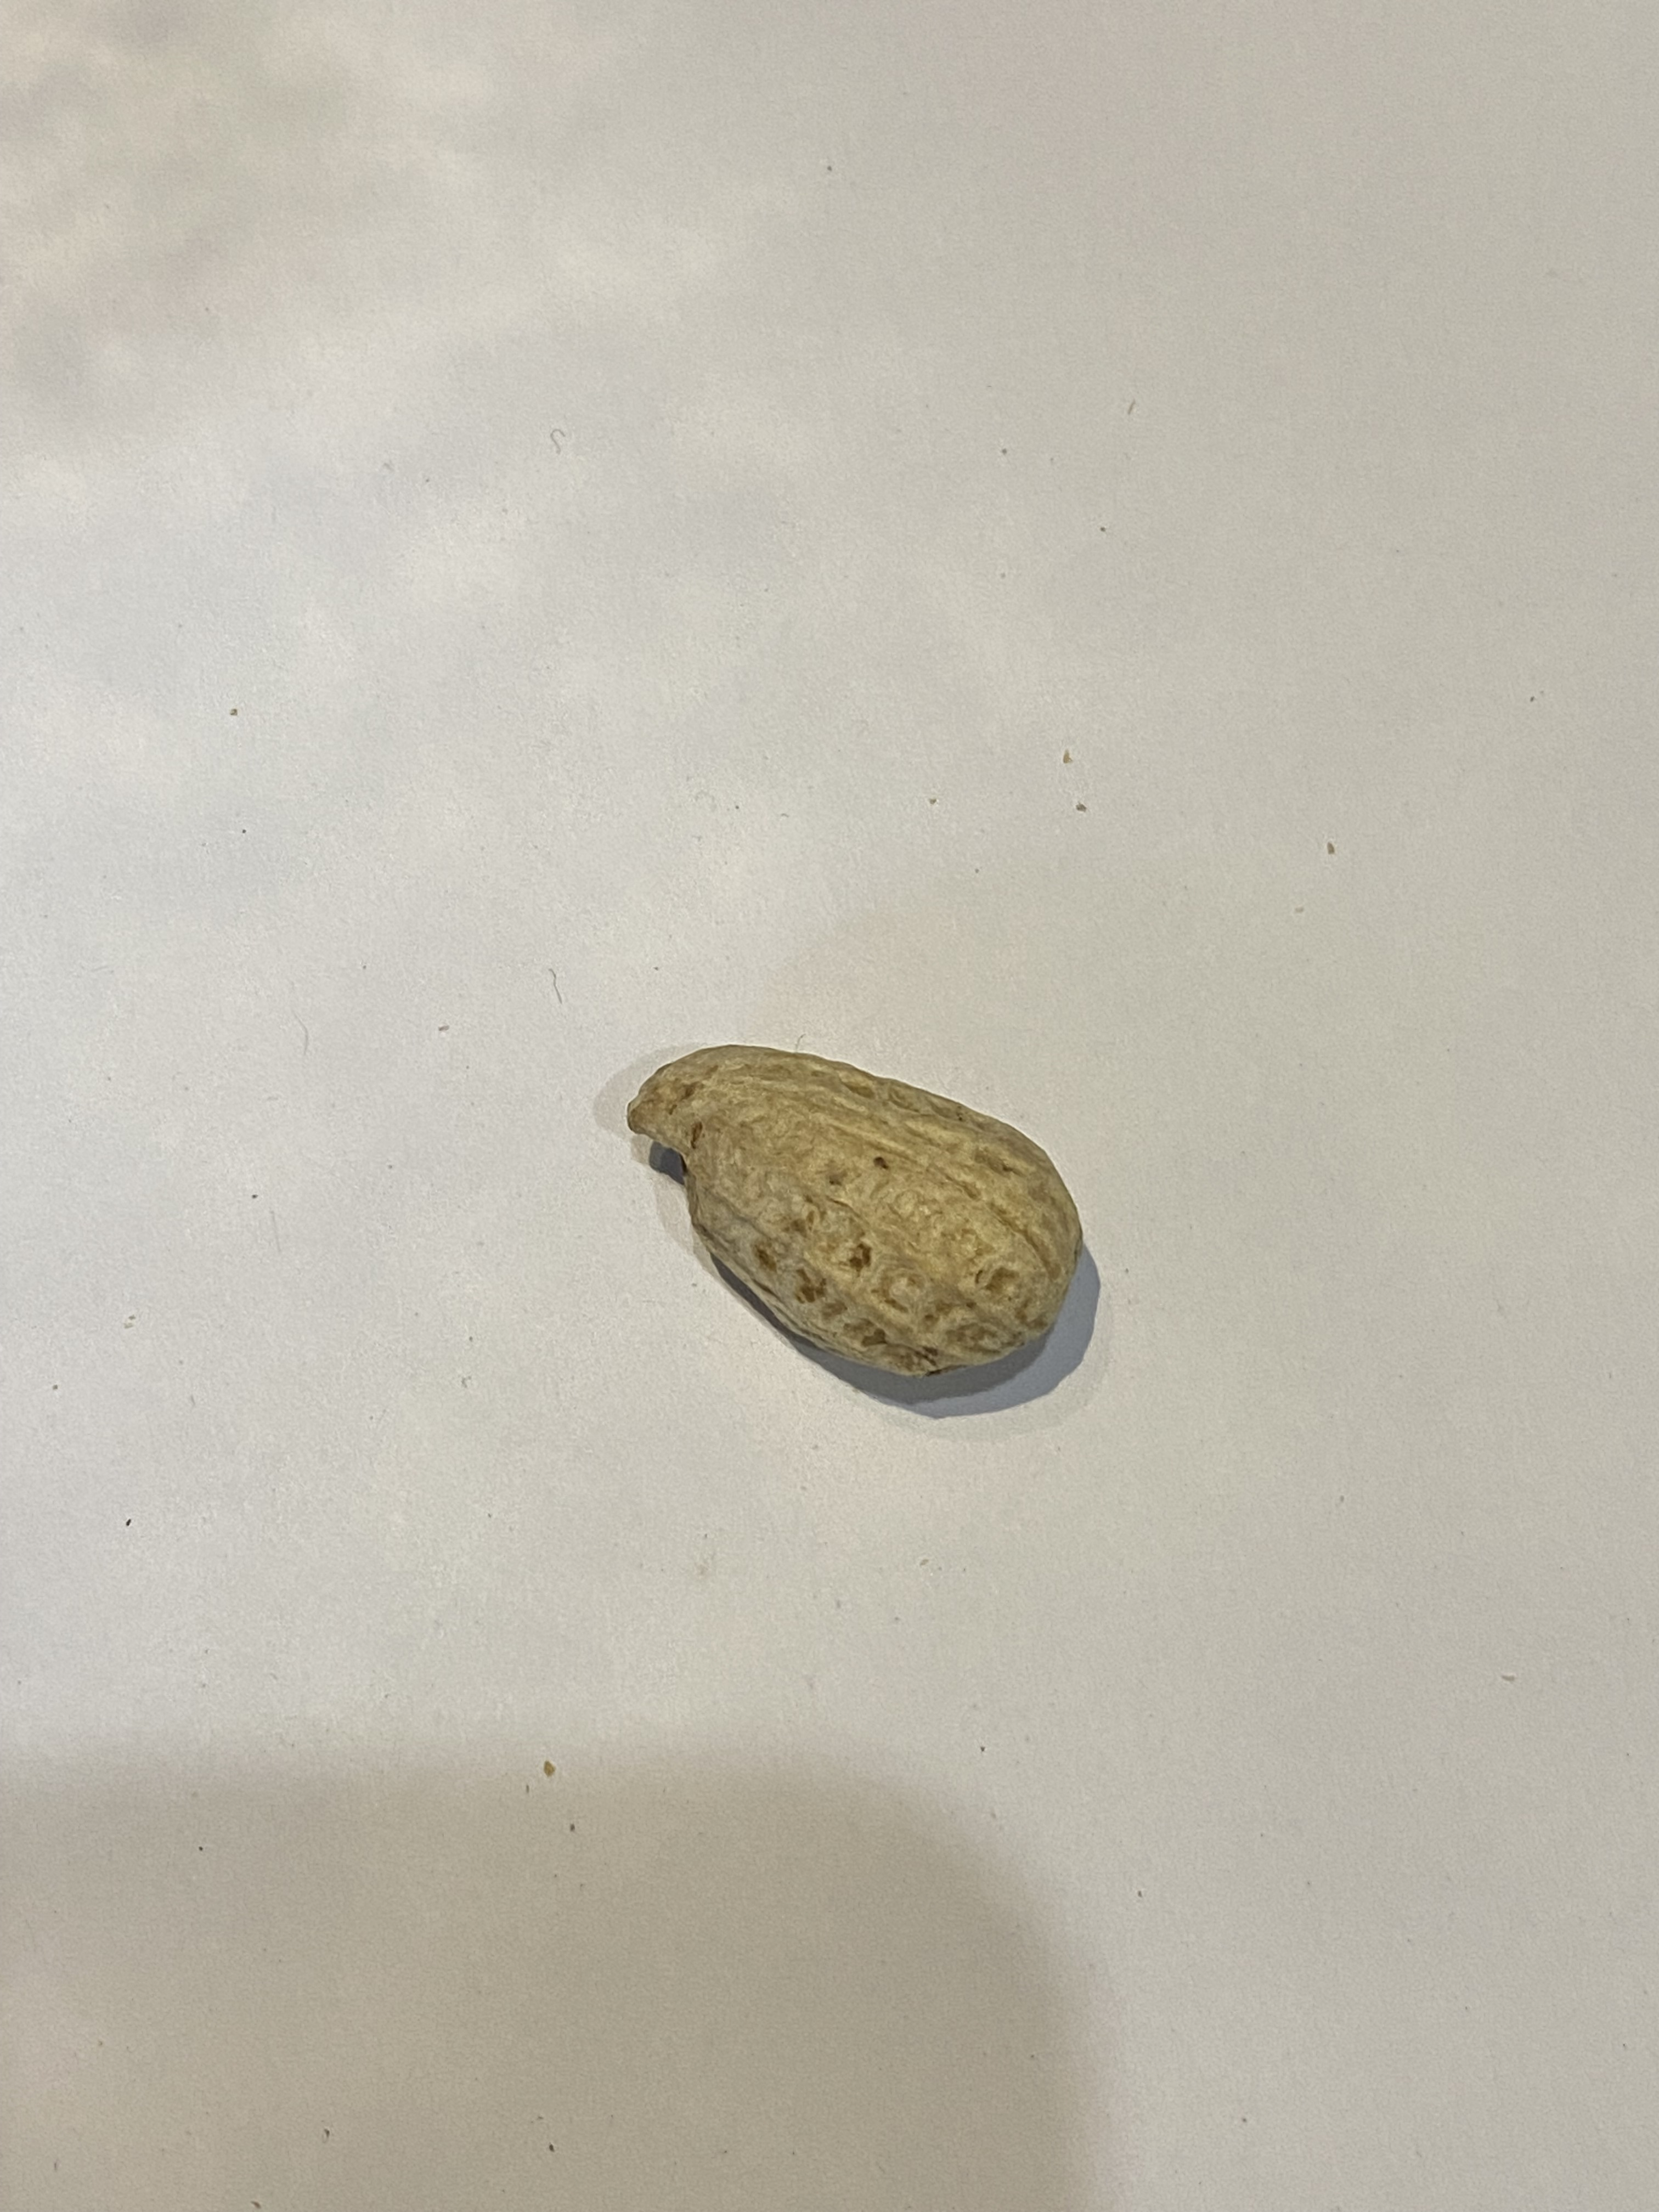kacang1: (598, 1042, 1089, 1386)
